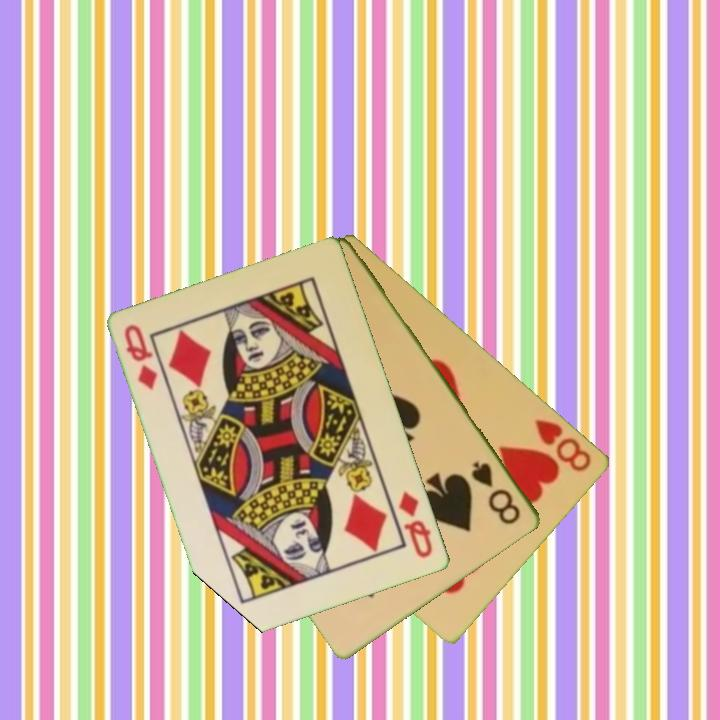8h: (532, 415, 595, 475)
8s: (468, 458, 524, 528)
Qd: (395, 487, 436, 562), (121, 321, 162, 394)
